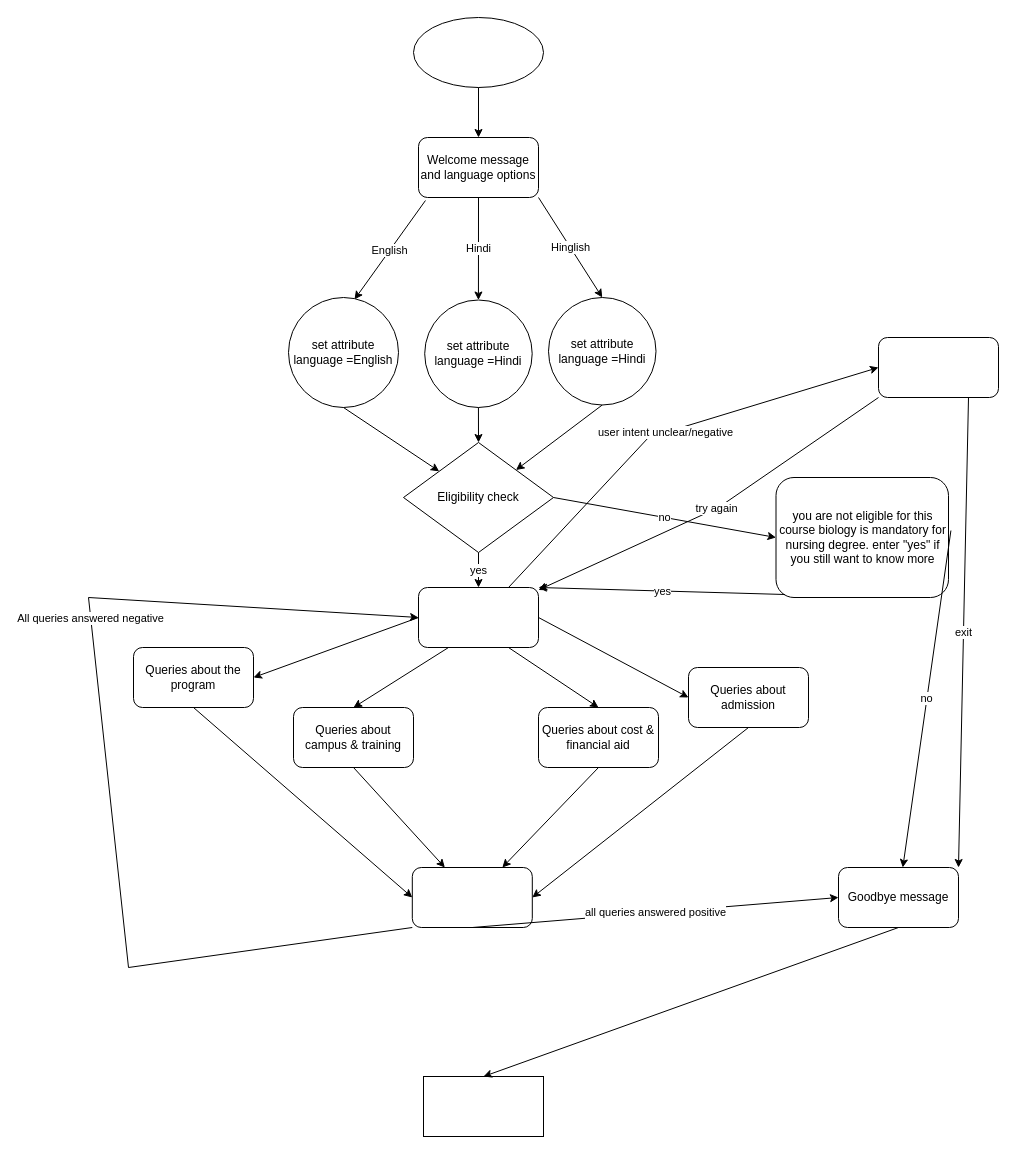
This 1016x1154 diagram has some shape labels left out. Here are the shapes that lost their labels. From the top down, the box of each, then its label:
(412, 16, 544, 88): Start
(878, 336, 998, 398): Fallback message
(418, 586, 538, 648): Menu options
(411, 866, 532, 928): AI Assistant
(422, 1076, 544, 1136): Chat end
